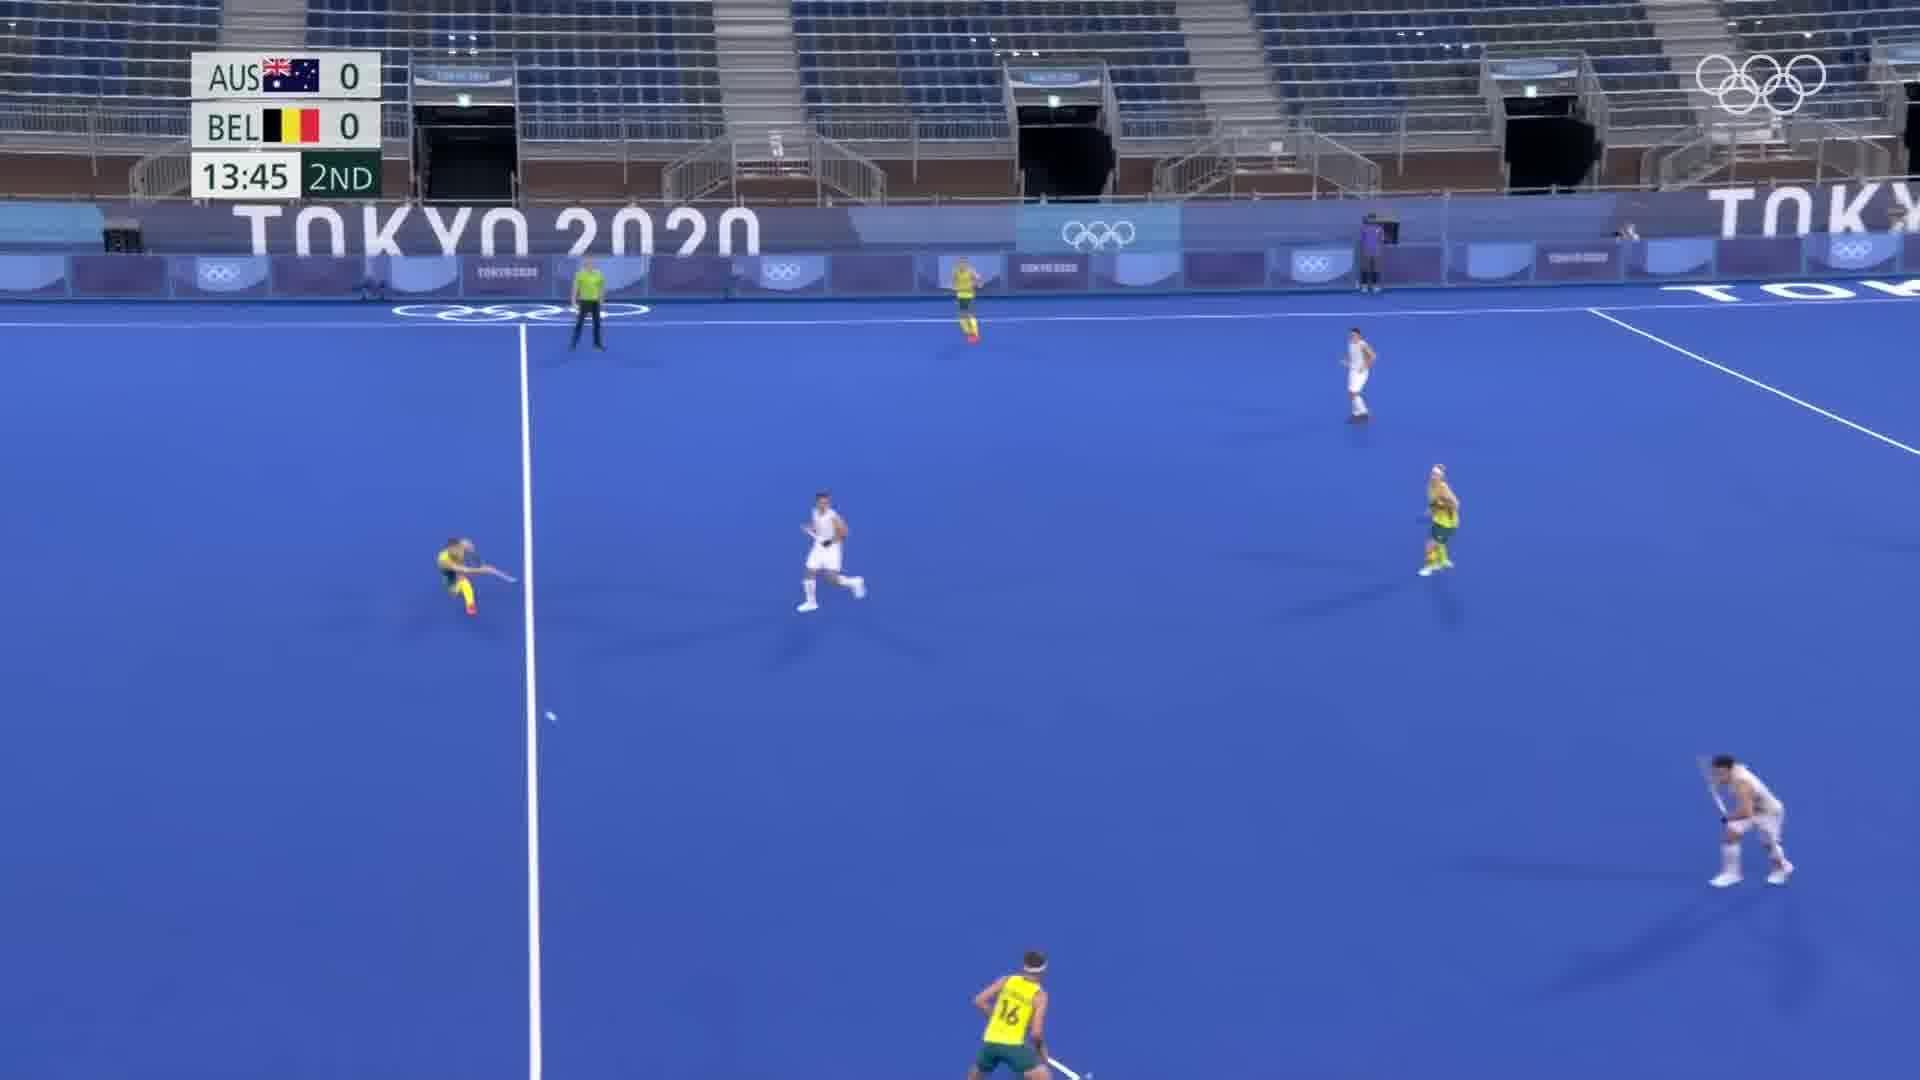ball: (541, 707, 563, 725)
